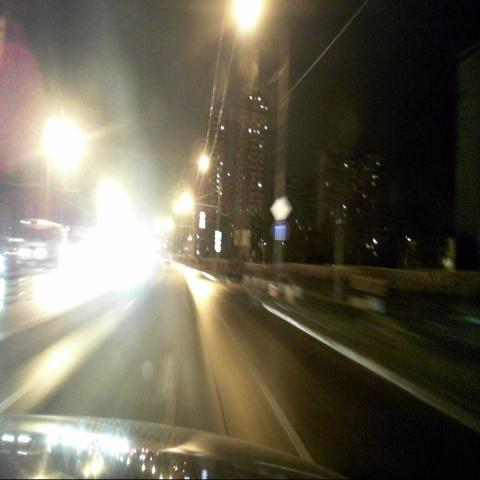2_1: (276, 196, 290, 221)
